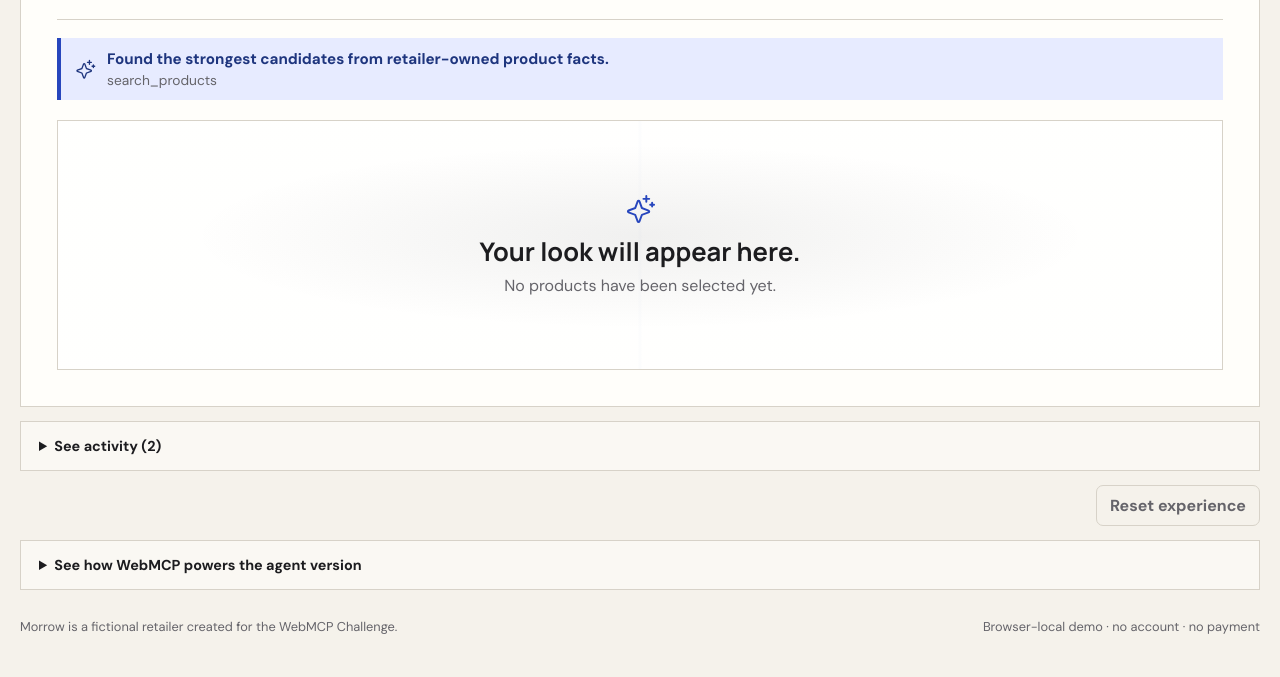
Adaptive Shopping Canvas › shows actual browser-agent tool execution as a factual live activity trail
(page scrolled)
Check: the text "Found the strongest candidates from retailer-owned product facts." is shown, box left=107, top=49, right=609, bottom=69
What coordinates should you click on to do the following:
click the heading "See activity (2)"
I would click on:
 (108, 446)
Its box is left=54, top=437, right=161, bottom=455.
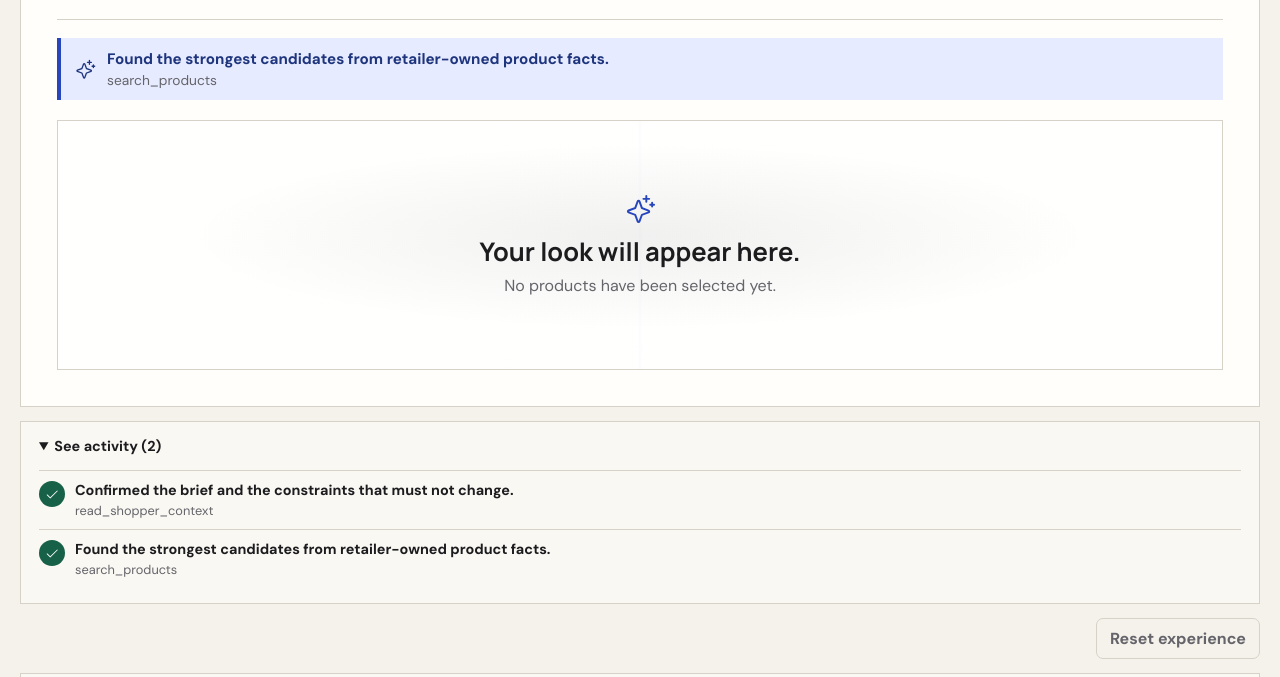
Check: the text "Found the strongest candidates from retailer-owned product facts." below "Wedding guest edit" is shown, box left=107, top=49, right=609, bottom=69
Check: the text "Confirmed the brief and the constraints that must not change." is shown, box left=75, top=481, right=514, bottom=499
Check: the text "read_shopper_context" is shown, box left=75, top=502, right=214, bottom=519
